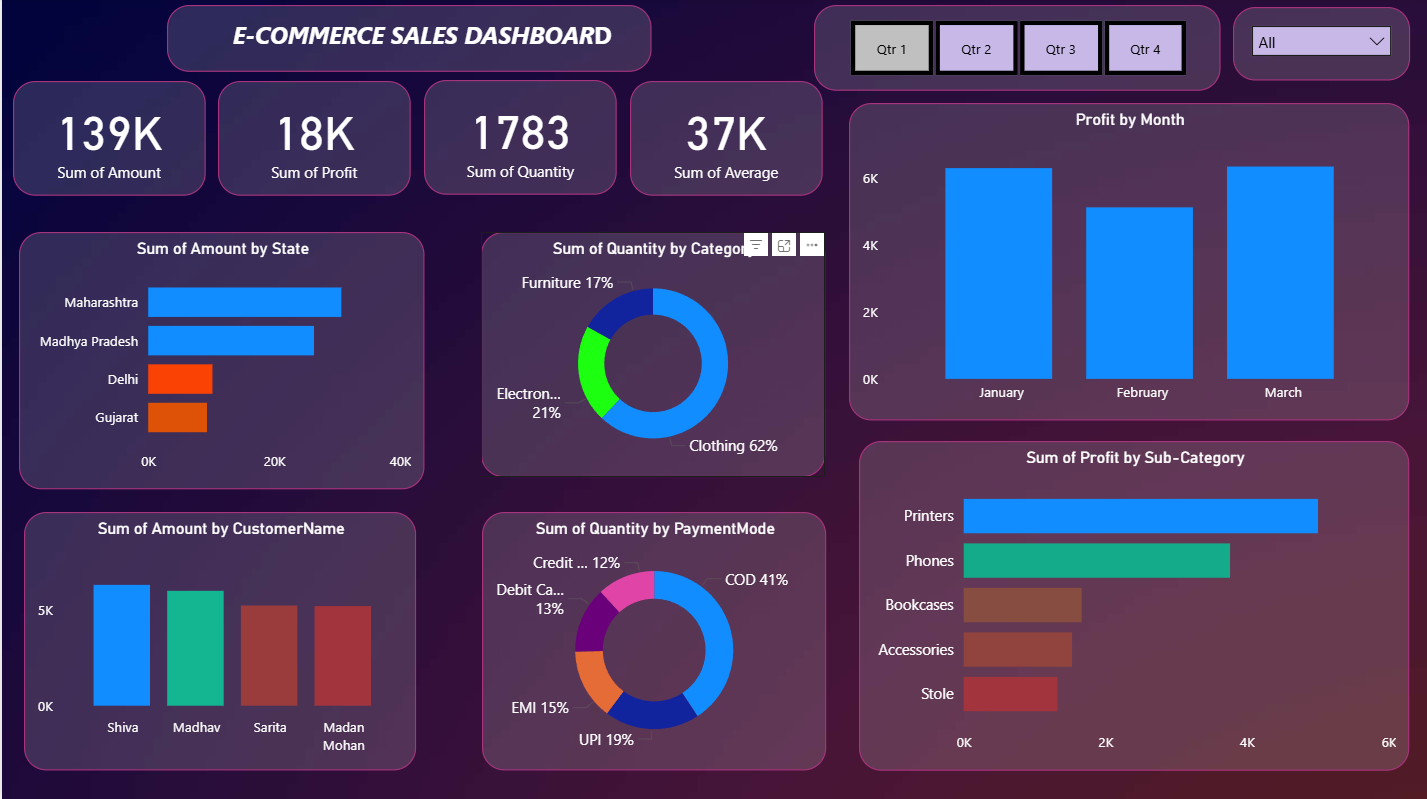

Layout of this report page (visuals, bound fields, positions):
{"tool":"powerbi","page":{"name":"Page 1","canvas":[1280,720],"ordinal":0},"visuals":[{"type":"textbox","box":[148.1,0,435.4,60.1],"z":0},{"type":"columnChart","title":"Profit by Month","fields":{"Y":["Details.Profit"],"Category":["Orders.Order Date.Variation.Date Hierarchy.Month"]},"box":[760.7,94.5,503.1,284.7],"z":1000},{"type":"barChart","fields":{"Category":["Details.Sub-Category"],"Y":["Details.Profit"]},"box":[769.3,397.5,494.5,295.7],"z":2000},{"type":"donutChart","fields":{"Category":["Details.Category"],"Y":["Details.Quantity"]},"box":[430.4,210.5,308.9,219.9],"z":3000},{"type":"donutChart","fields":{"Y":["Details.Quantity"],"Category":["Details.PaymentMode"]},"box":[430.7,461.4,309.2,231.9],"z":4000},{"type":"card","fields":{"Values":["Details.Amount"]},"box":[9.4,74.2,172.7,102.5],"z":5000},{"type":"card","fields":{"Values":["Details.Profit"]},"box":[194.3,74.2,172.7,102.5],"z":6000},{"type":"card","fields":{"Values":["Details.Quantity"]},"box":[379.1,73.6,173,103.1],"z":7000},{"type":"card","fields":{"Values":["Details.AOV"]},"box":[563.9,74.2,172.7,102.5],"z":8000},{"type":"barChart","fields":{"Category":["Orders.State"],"Y":["Details.Amount"]},"box":[14.8,210.5,364.3,230.7],"z":9000},{"type":"columnChart","fields":{"Category":["Orders.CustomerName"],"Y":["Details.Amount"]},"box":[19.6,461.4,352.1,231.9],"z":10000},{"type":"slicer","fields":{"Values":["Orders.Order Date.Variation.Date Hierarchy.Quarter"]},"box":[725.4,0,365.4,77.2],"z":11000},{"type":"slicer","fields":{"Values":["Orders.State"]},"box":[1105.5,0,158.3,66.3],"z":12000}]}

Visuals, with their boxes in screenshot pixels (x1, y1, x2, y2), scaled from the page's 1280x720 canvas onto the 1427x799 screenshot:
textbox: bbox(165, 0, 651, 67)
"Profit by Month" columnChart: bbox(848, 105, 1409, 421)
barChart - Details.Sub-Category x Details.Profit: bbox(858, 441, 1409, 769)
donutChart - Details.Category x Details.Quantity: bbox(480, 234, 824, 478)
donutChart - Details.Quantity x Details.PaymentMode: bbox(480, 512, 825, 769)
card - Details.Amount: bbox(10, 82, 203, 196)
card - Details.Profit: bbox(217, 82, 409, 196)
card - Details.Quantity: bbox(423, 82, 616, 196)
card - Details.AOV: bbox(629, 82, 821, 196)
barChart - Orders.State x Details.Amount: bbox(16, 234, 423, 490)
columnChart - Orders.CustomerName x Details.Amount: bbox(22, 512, 414, 769)
slicer - Orders.Order Date.Variation.Date Hierarchy.Quarter: bbox(809, 0, 1216, 86)
slicer - Orders.State: bbox(1232, 0, 1409, 74)
